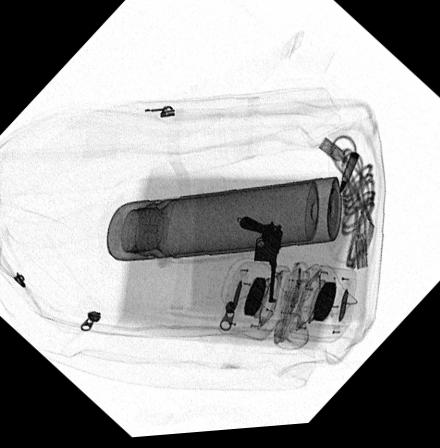Bullet: (339, 156, 359, 200)
Gun: (238, 217, 283, 305)
